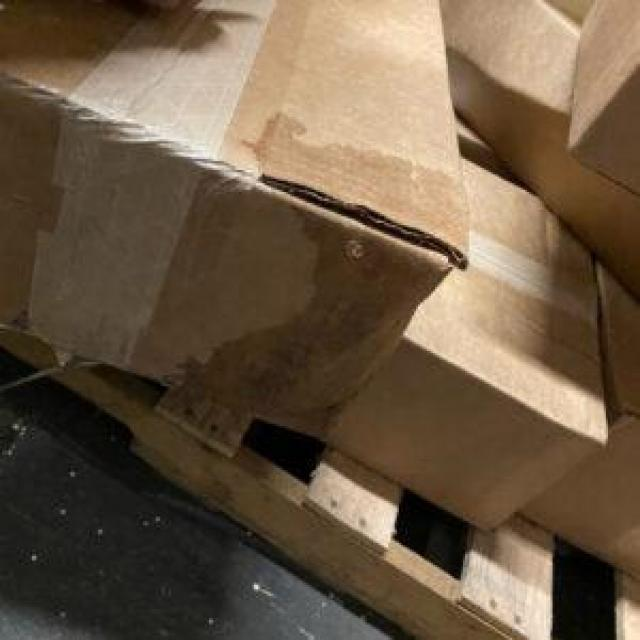wet: (147, 108, 459, 433)
